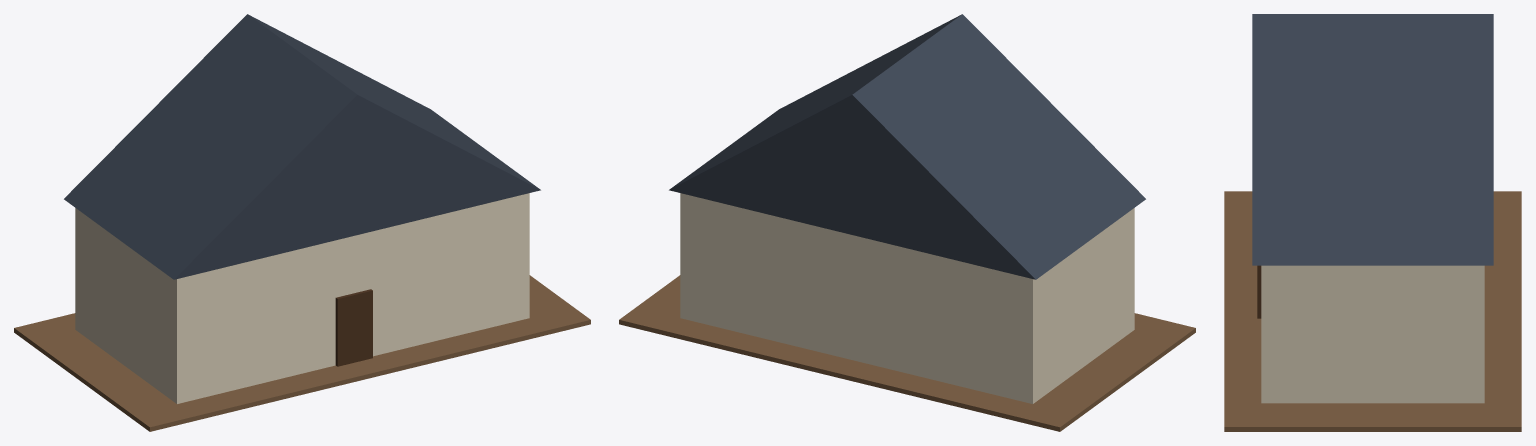
Rendered from bld_special_warehouse_a03_lod2.glb.
The picture shows the model from 3 angles, left to right: view 1: azimuth 30°, elevation 25°; view 2: azimuth 150°, elevation 25°; view 3: azimuth 270°, elevation 25°; orthographic projection. The views are drawn at different scales.
Parts seen in each view (by area): view 1: body; view 2: body; view 3: body.
Part boxes in pixels (x1,y1,x2,y2): body: [14, 14, 590, 431]; body: [619, 14, 1195, 431]; body: [1224, 14, 1521, 431].
Bounding box in the file's own units: 15 × 8.91 × 8.
